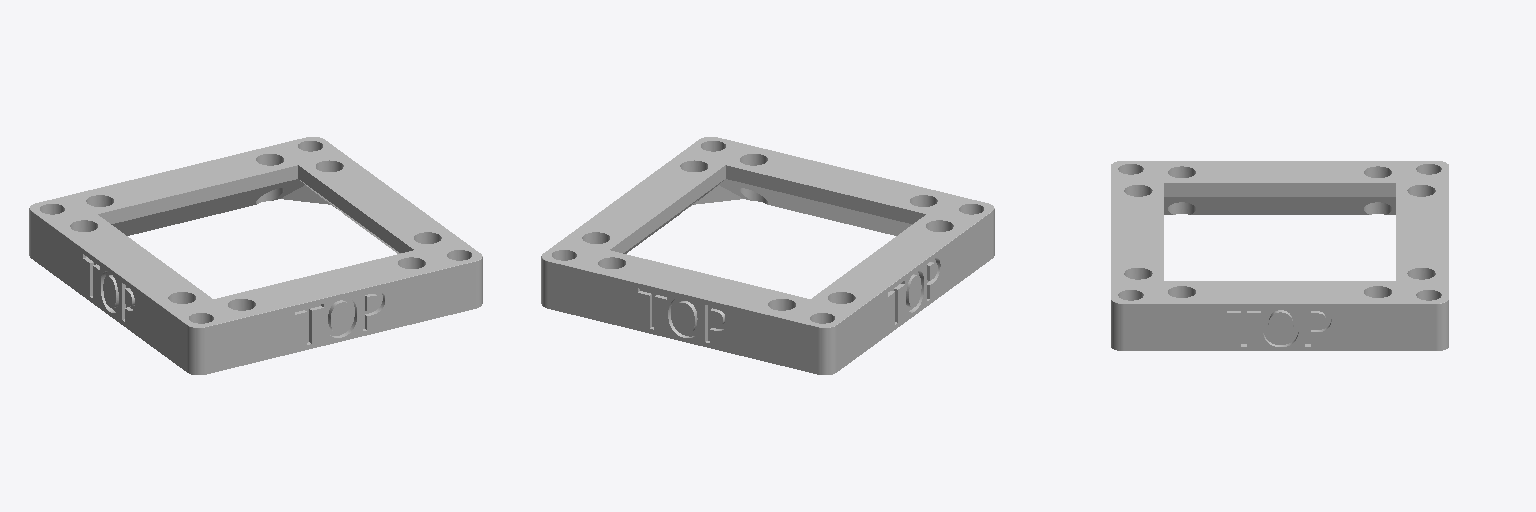
File: V5_Cube 1x1 Top V5.obj
The picture shows the model from 3 angles: view 1: azimuth 30°, elevation 25°; view 2: azimuth 150°, elevation 25°; view 3: azimuth 270°, elevation 25°; orthographic projection.
Parts seen in each view (by area): view 1: Solid1; view 2: Solid1; view 3: Solid1.
Part boxes in pixels (left/top/right/bottom): Solid1: left=29, top=137, right=482, bottom=374; Solid1: left=541, top=137, right=994, bottom=374; Solid1: left=1111, top=161, right=1448, bottom=350.
Size of the model in its own units: 49.8 by 7.7 by 49.8.